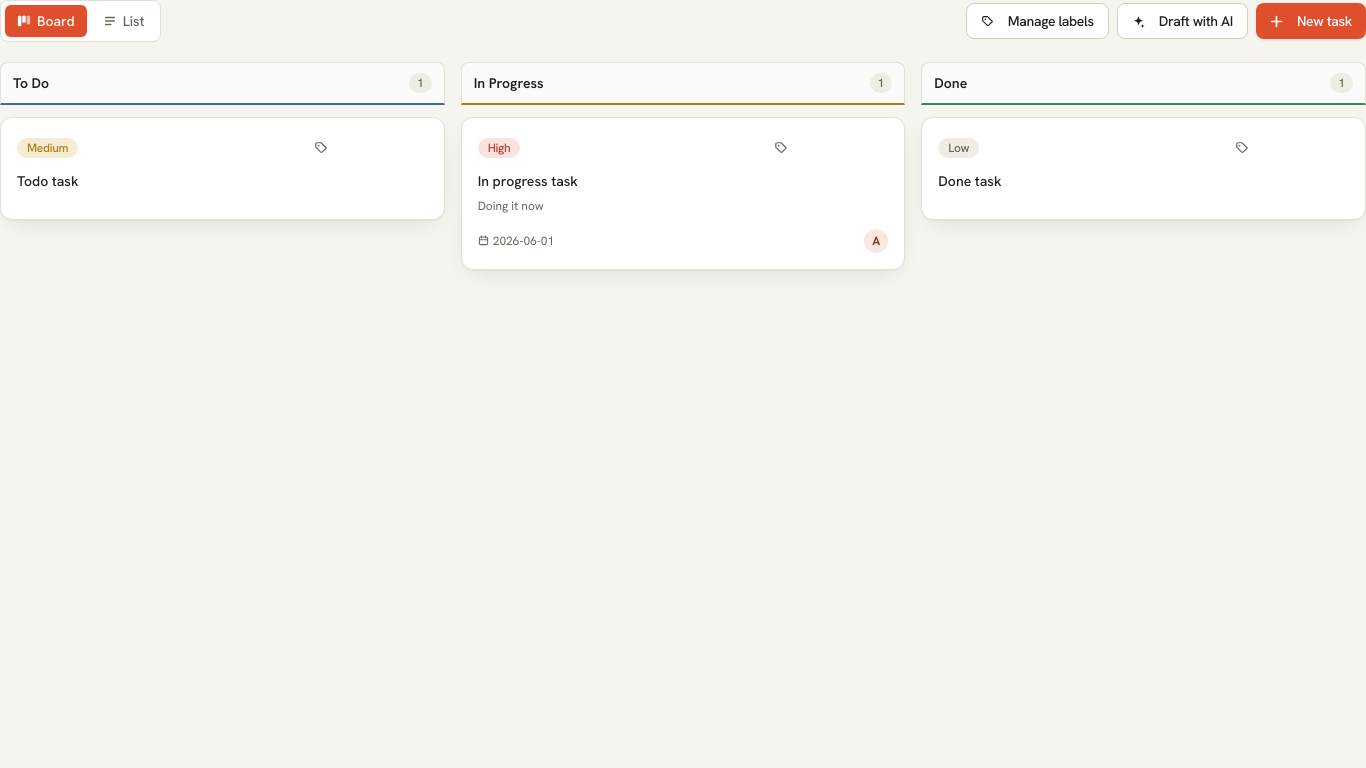
Test: TaskBoard › opens the AI task-draft modal from the toolbar
The width and height of the screenshot is (1366, 768).
Expected: the heading "Todo task" is shown, [17,172,78,190]
Step 1. Click the button "Draft with AI" → (1182, 21), box [1117,3,1248,39]
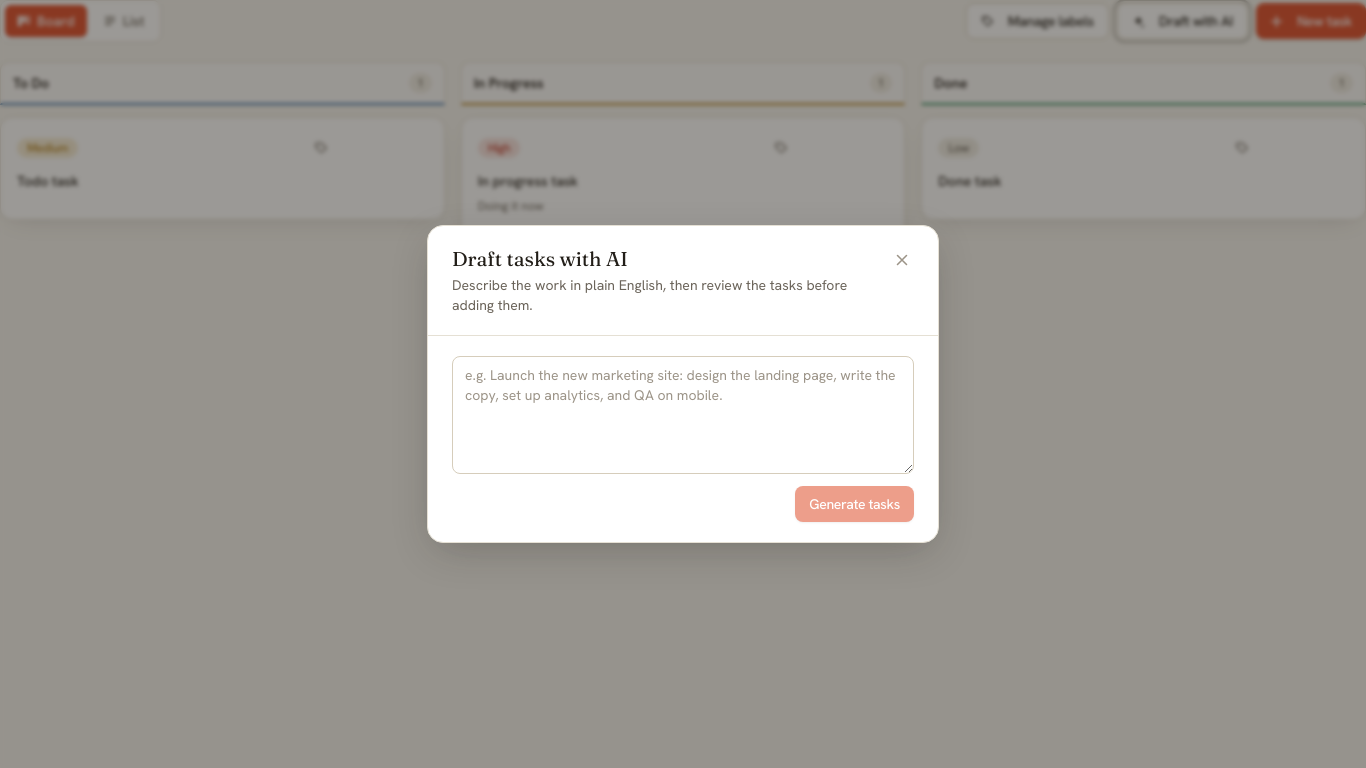
Now the text box named "Describe the work" is shown, box [452,356,914,474]
